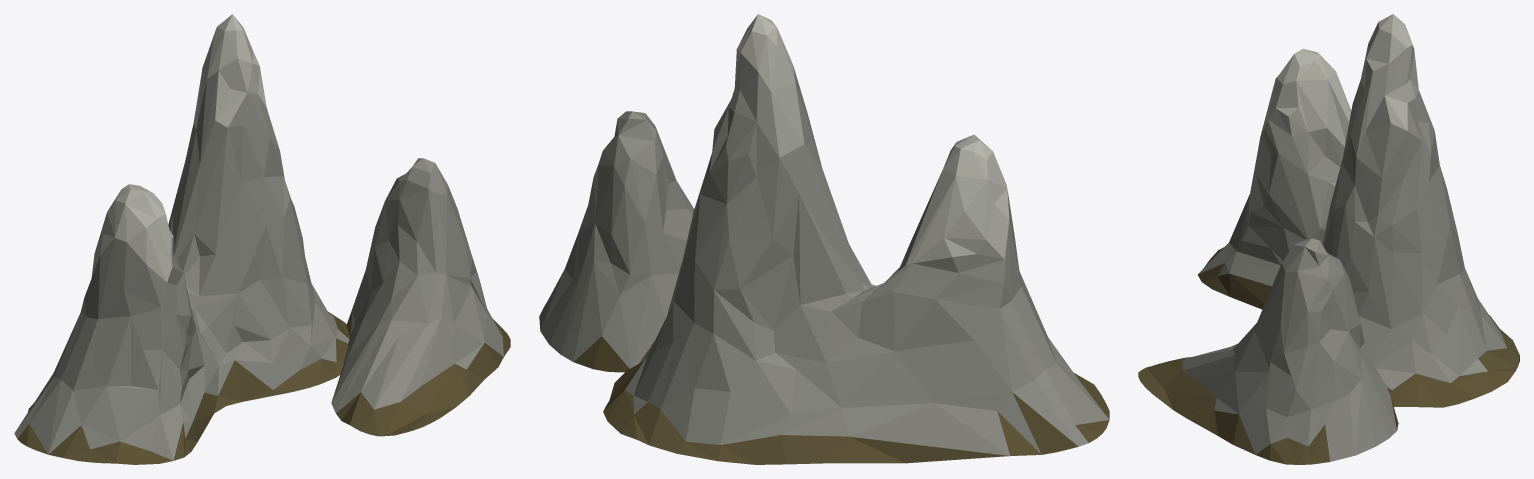
Rendered from Mountain2.gltf.
The picture shows the model from 3 angles, left to right: view 1: azimuth 30°, elevation 25°; view 2: azimuth 150°, elevation 25°; view 3: azimuth 270°, elevation 25°; orthographic projection. The views are drawn at different scales.
Parts seen in each view (by area): view 1: Mountain_Group_2; view 2: Mountain_Group_2; view 3: Mountain_Group_2.
Boxes of the visible parts, x1,y1,x2,y2 form: Mountain_Group_2: (14, 14, 510, 464); Mountain_Group_2: (539, 14, 1109, 464); Mountain_Group_2: (1138, 14, 1519, 464).
Bounding box in the file's own units: 3.58 × 2.44 × 2.46.
